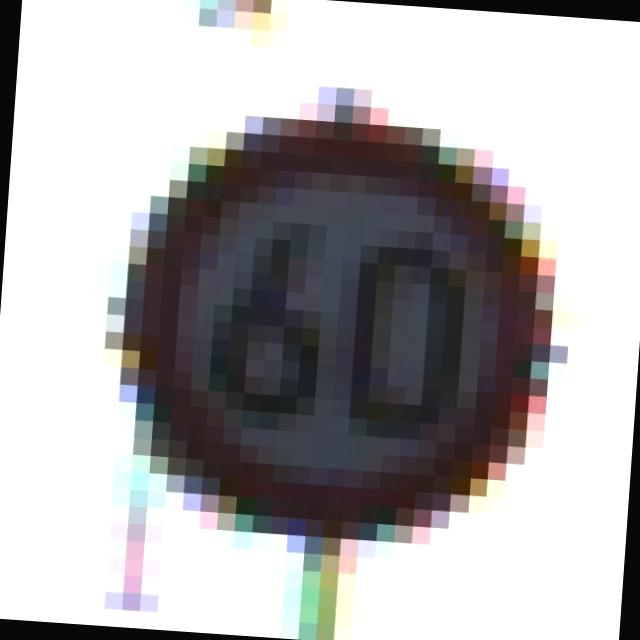Ograniczenie predkosci do 60: (27, 28, 640, 626)
